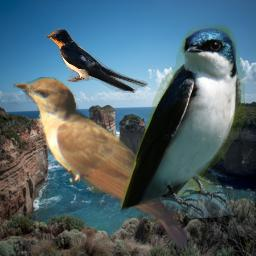Cuckoo: (13, 77, 187, 249)
Swallow: (121, 25, 245, 218), (43, 26, 148, 93)
